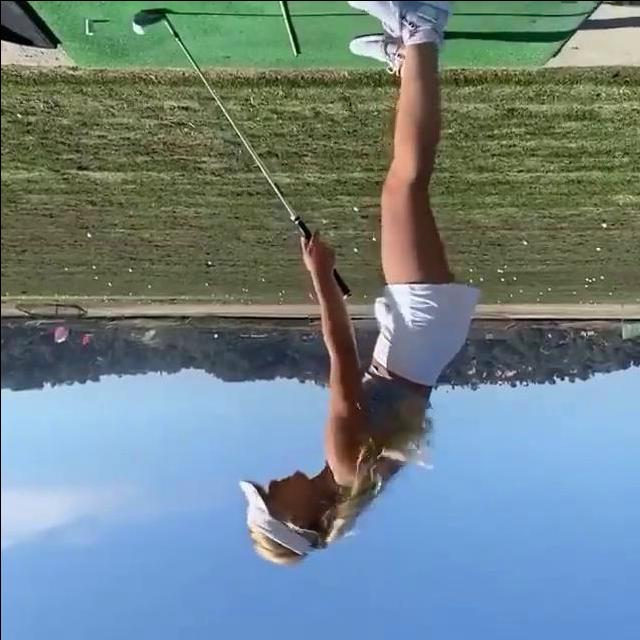golf ball: (130, 19, 145, 34)
golf club-handle: (132, 8, 351, 298)
golf club-head: (132, 8, 164, 26)
